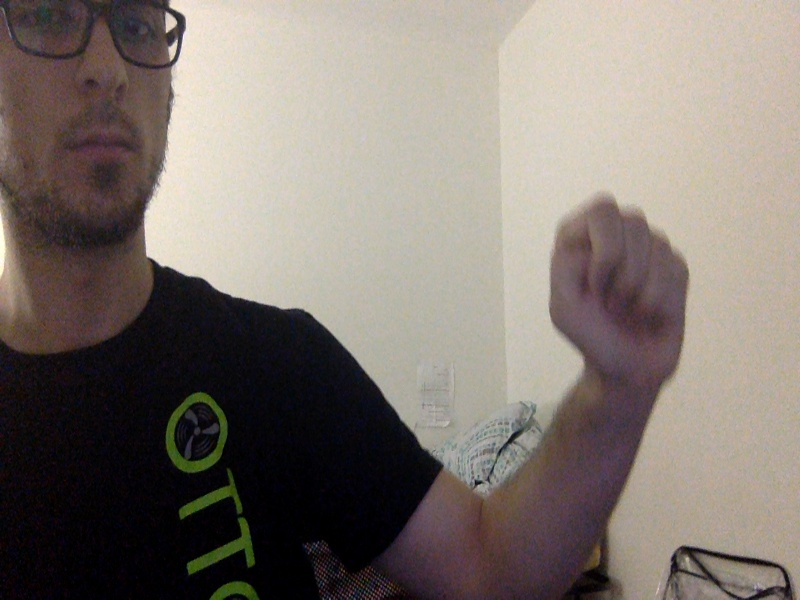0-hand: (548, 197, 691, 391)
